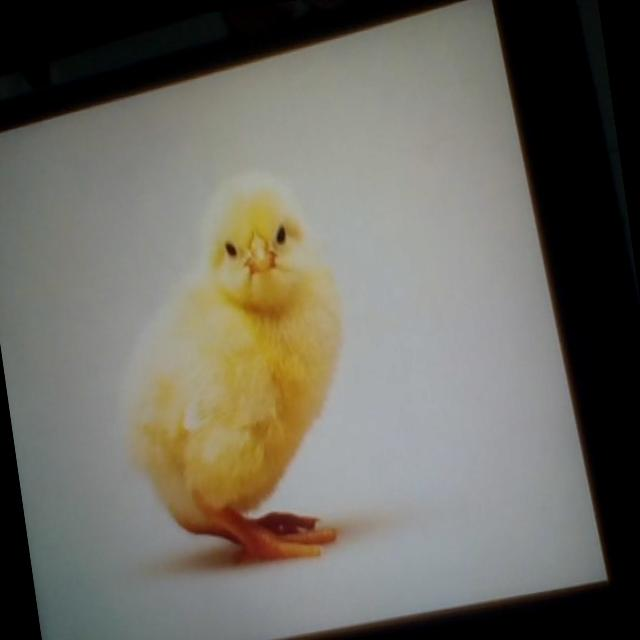Healthy: (86, 164, 376, 586)
